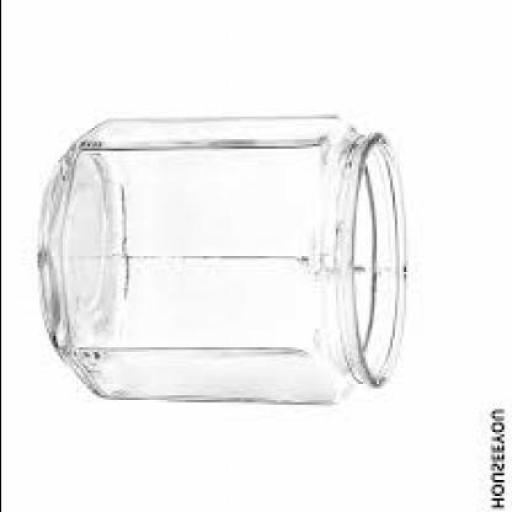glass: (38, 116, 410, 407)
